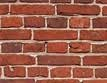brick: (33, 29, 78, 40), (11, 4, 56, 14), (56, 5, 100, 15), (38, 55, 81, 64), (1, 54, 35, 65), (1, 29, 32, 41), (80, 29, 107, 41), (82, 56, 107, 66), (69, 17, 91, 28), (47, 42, 69, 53), (70, 42, 92, 53), (22, 43, 46, 53), (1, 16, 22, 27), (47, 17, 68, 28), (1, 42, 21, 53), (49, 66, 70, 76), (5, 67, 24, 77), (24, 17, 45, 26), (74, 68, 91, 77), (28, 67, 46, 75), (93, 17, 107, 27), (94, 68, 107, 78), (94, 43, 107, 52), (1, 4, 9, 14)
